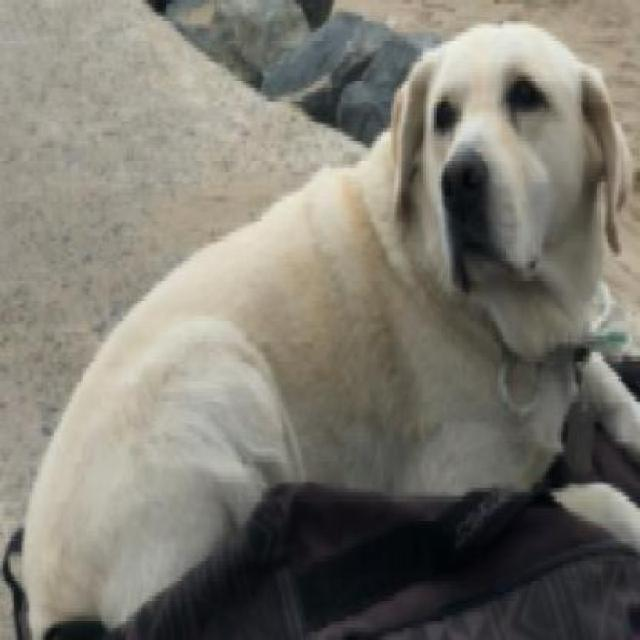Dog: (17, 4, 637, 630)
